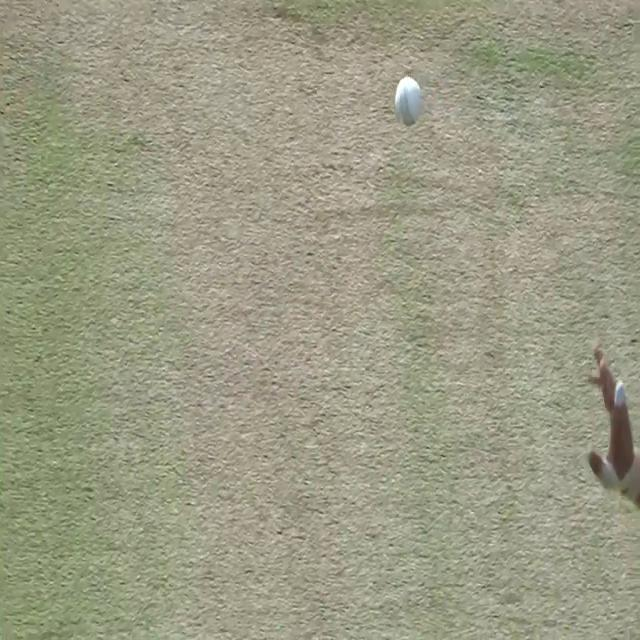ball: (394, 75, 422, 125)
